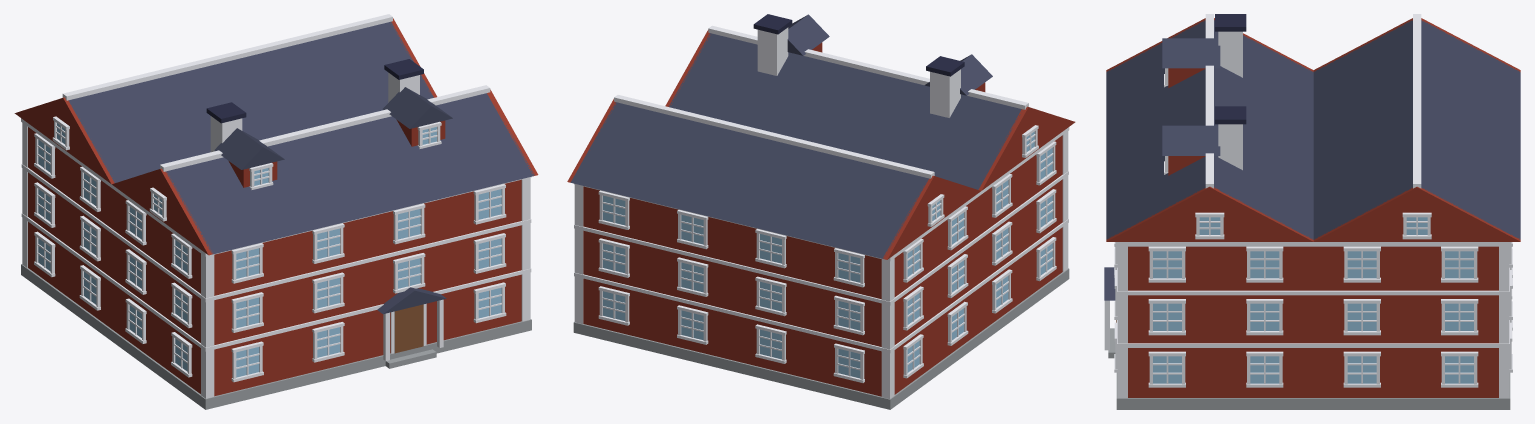
File: house-2x2-3f-stuga-a.glb
3 renders of one model, left to right at view 1: azimuth 30°, elevation 25°; view 2: azimuth 150°, elevation 25°; view 3: azimuth 270°, elevation 25°, orthographic. The views are drawn at different scales.
Parts seen in each view (by area): view 1: house-2x2-3f-stuga-a; view 2: house-2x2-3f-stuga-a; view 3: house-2x2-3f-stuga-a.
Part boxes in pixels (x1,y1,x2,y2): house-2x2-3f-stuga-a: (14, 14, 538, 409); house-2x2-3f-stuga-a: (567, 14, 1075, 409); house-2x2-3f-stuga-a: (1104, 14, 1520, 409).
Bounding box in the file's own units: 2 × 1.38 × 2.01.
Materials: 1 (1 with a texture image).
